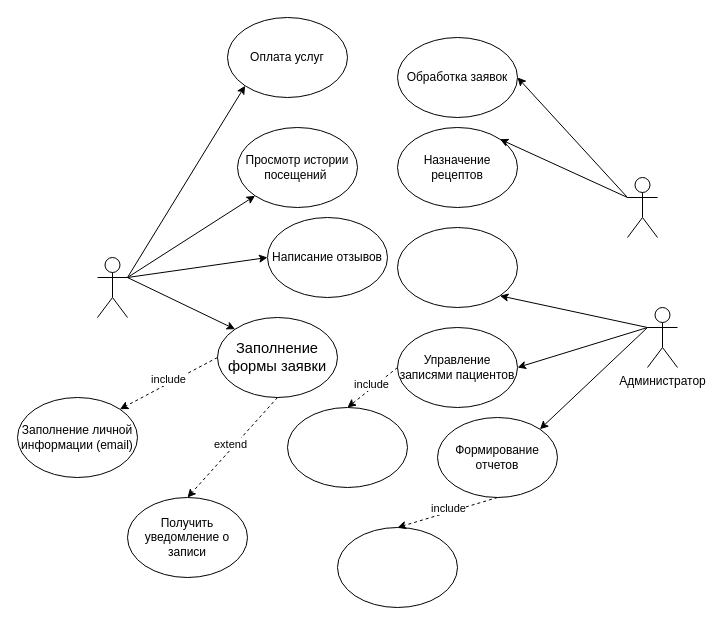
Image size: 723x625. Some labels were removed from this diagram. The box of each missing label's shape, as (x1, y1, x2, y2) in pixels:
Врач: (626, 176, 658, 238)
Отчет о прибыльности: (336, 526, 458, 608)
Пациент: (96, 256, 128, 318)
Управление расписанием врачей: (396, 226, 518, 308)
Фильтрация базы пациентов: (286, 406, 408, 488)
